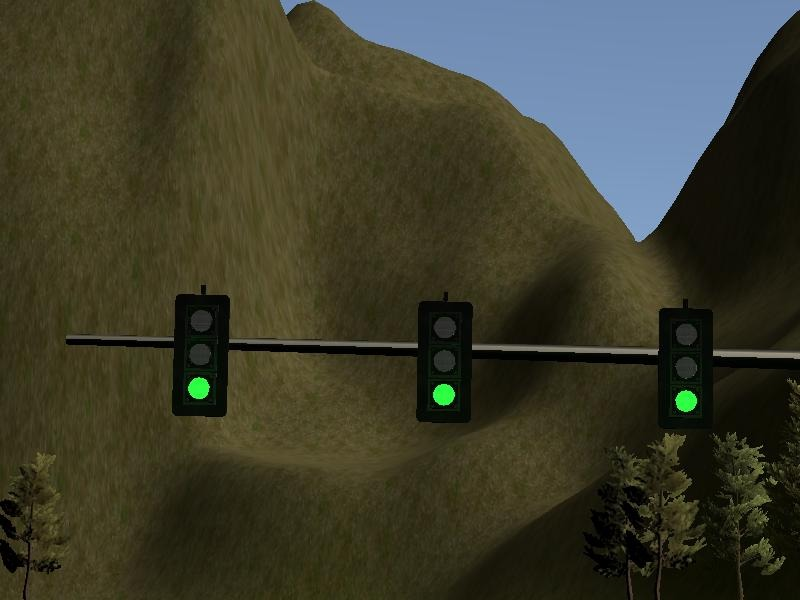green: (173, 294, 231, 416), (657, 310, 715, 432), (416, 298, 474, 420)
